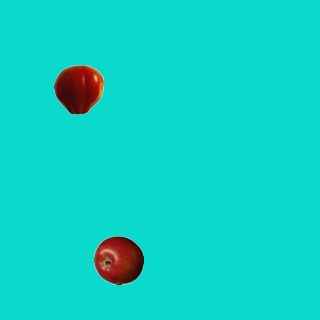Apple Braeburn: (93, 235, 143, 285)
Tomato 1: (53, 64, 103, 114)
